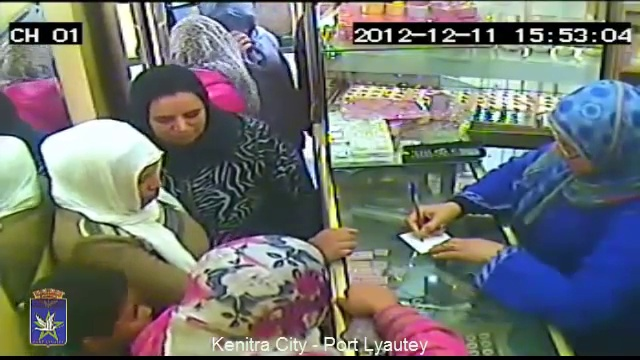face: (152, 104, 200, 142), (129, 158, 163, 210)
